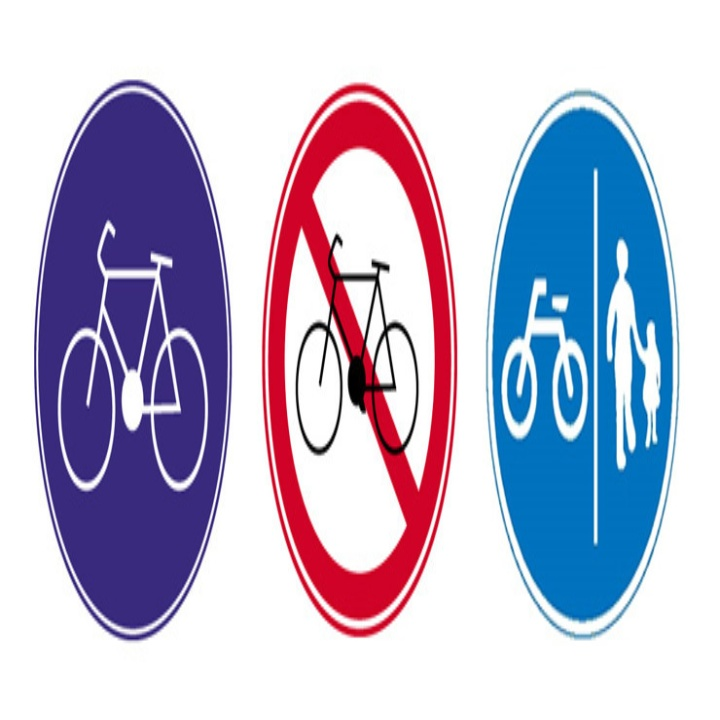bicycle: (57, 218, 211, 495), (293, 235, 423, 457), (499, 275, 589, 447)
child: (603, 239, 667, 469)
